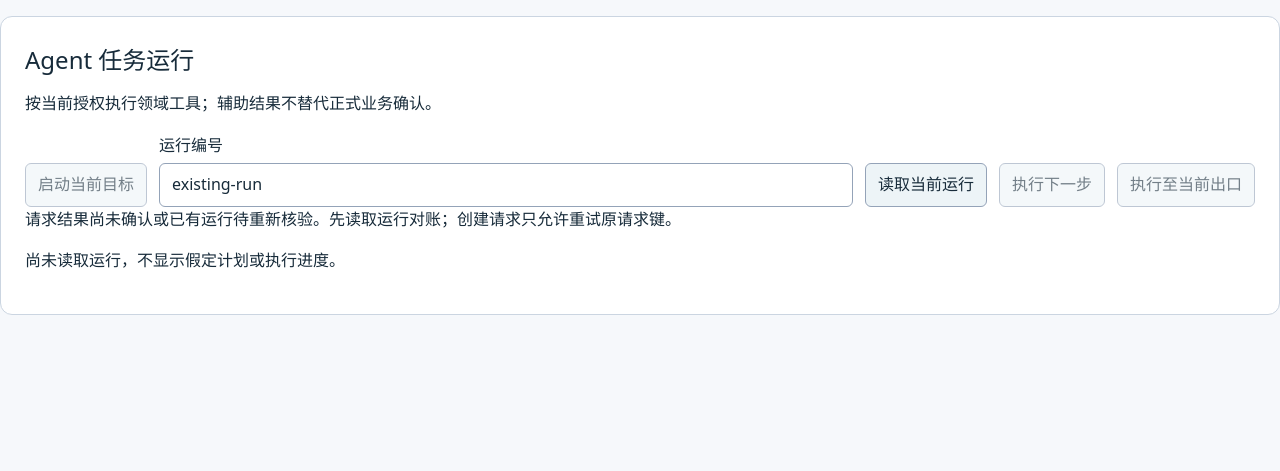
Scenario: optional browser receipt recovery › restores a known Run only as a hint, requiring GET before any execute or result display
This screenshot has width=1280, height=471.
Expected: the text "当前已核验目标" is not shown
Expected: the button "启动当前目标" is disabled, [25,163,147,207]
Click the button "读取当前运行" at (926, 185), box [865,163,987,207]
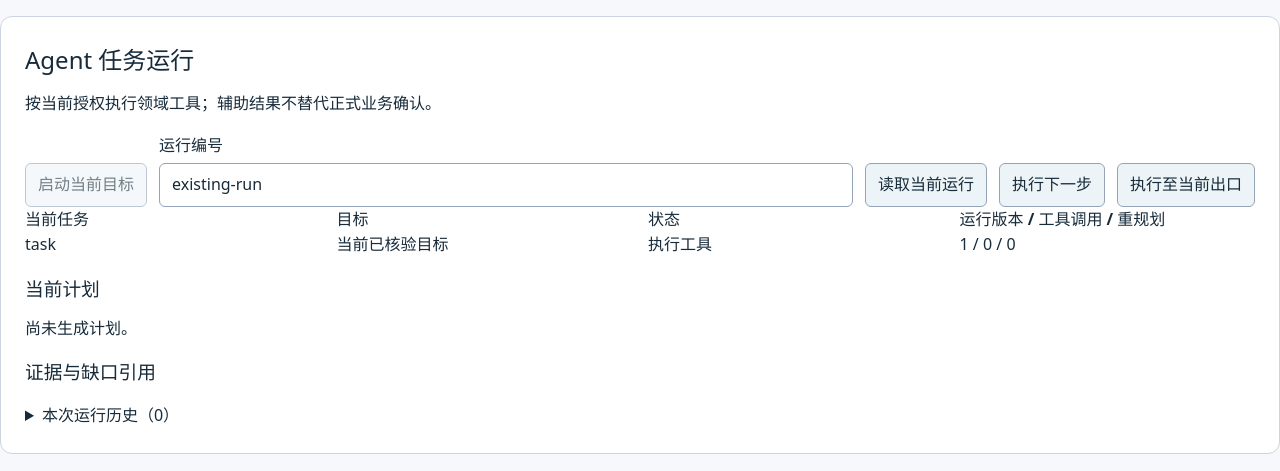
Expected: the text "当前已核验目标" is shown, [336,233,448,255]
